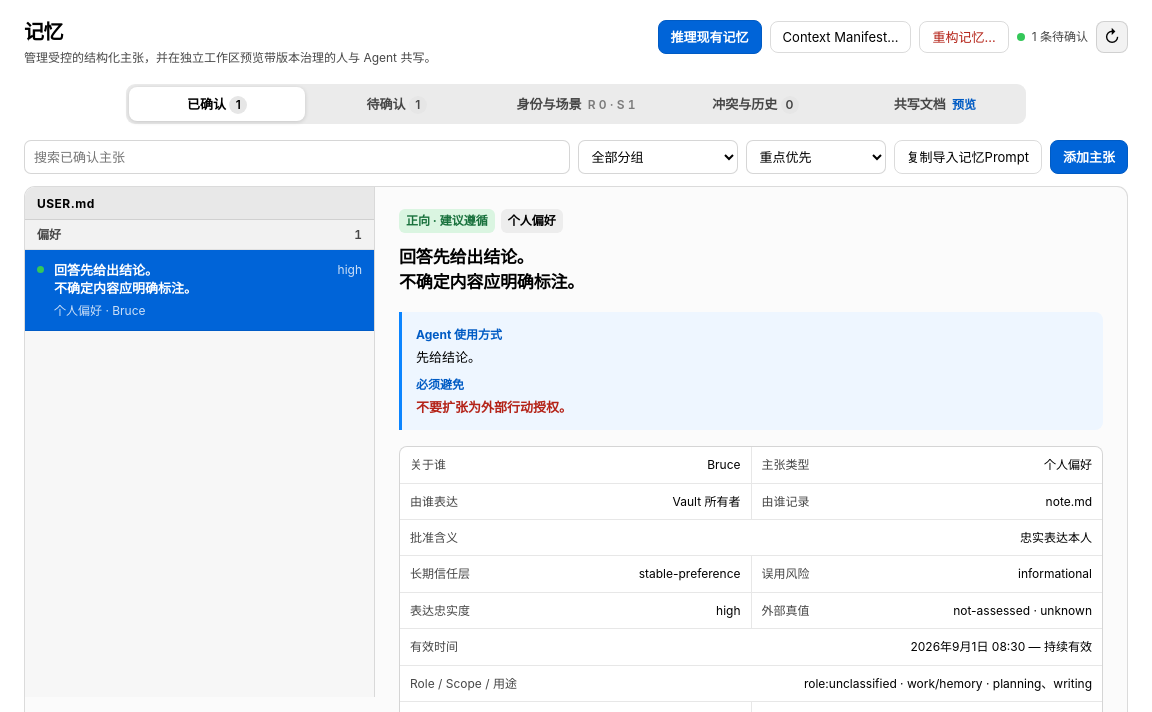
Test: Memory Protocol v2 app › warns about the full impact before resetting every current and pending memory in one RPC
The width and height of the screenshot is (1152, 712).
What coordinates should you click on to do the following:
click the button "重构记忆…"
I would click on:
 (964, 37)
Its box is [920,21,1009,53].
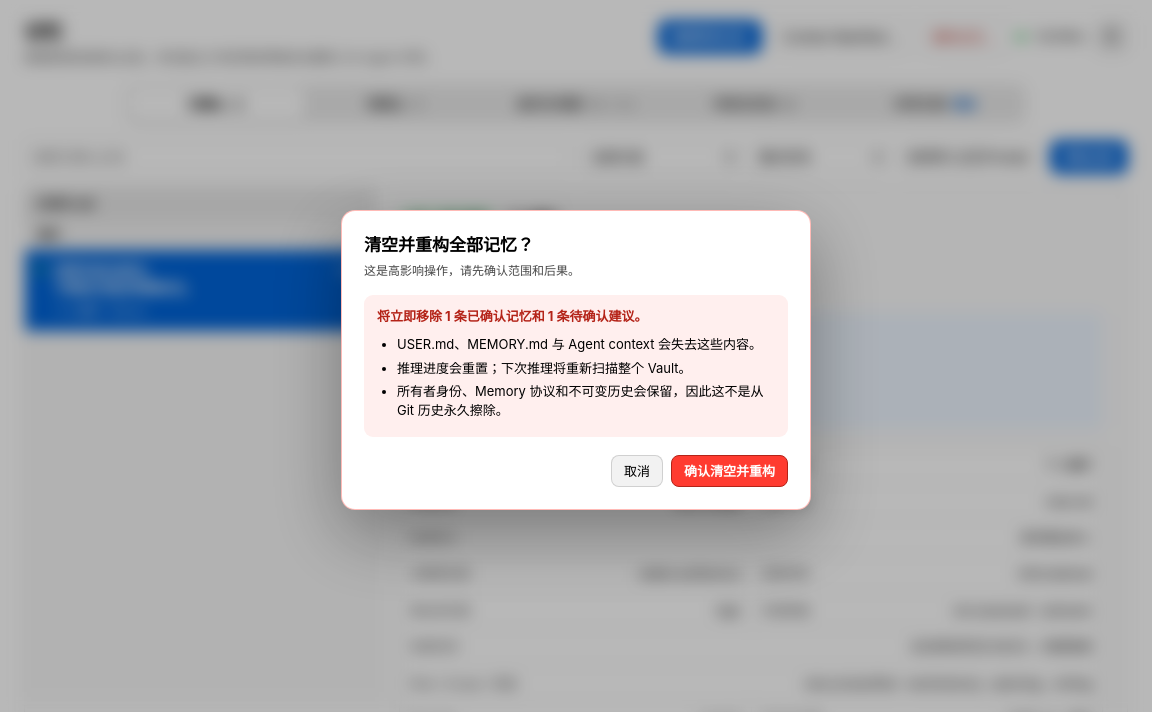
Expected: the dialog is shown, [341,210,811,510]
Expected: the text "1 条已确认记忆和 1 条待确认建议" is shown, [377,308,648,324]
Expected: the text "USER.md、MEMORY.md 与 Agent context" is shown, [397,336,762,352]
What coordinates should you click on to do the following:
click the button "确认清空并重构"
I would click on:
 (730, 471)
Its box is [671,455,788,487].
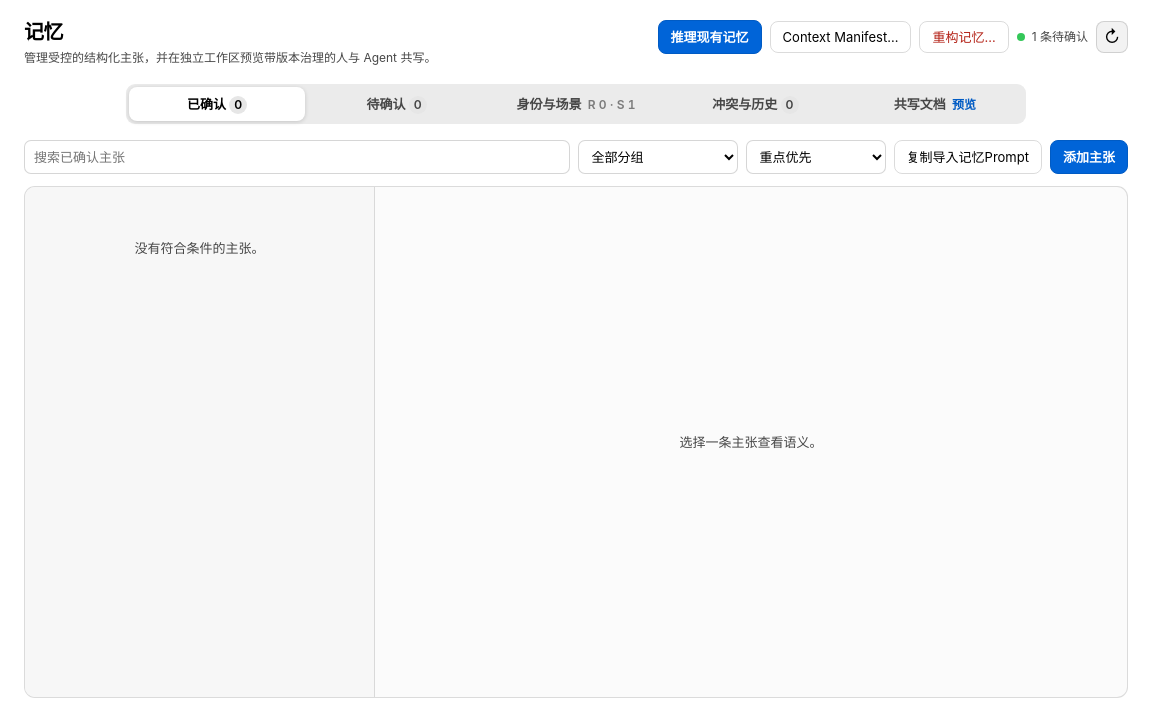
Expected: the dialog is gone
